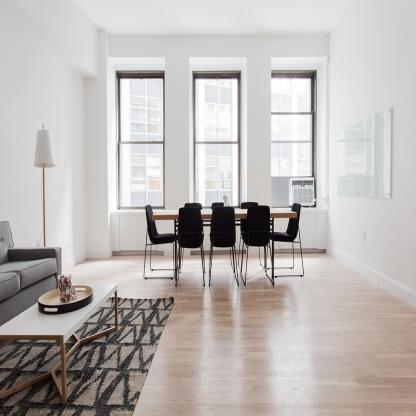Window: (117, 68, 163, 207), (194, 70, 240, 202), (273, 70, 313, 177)
